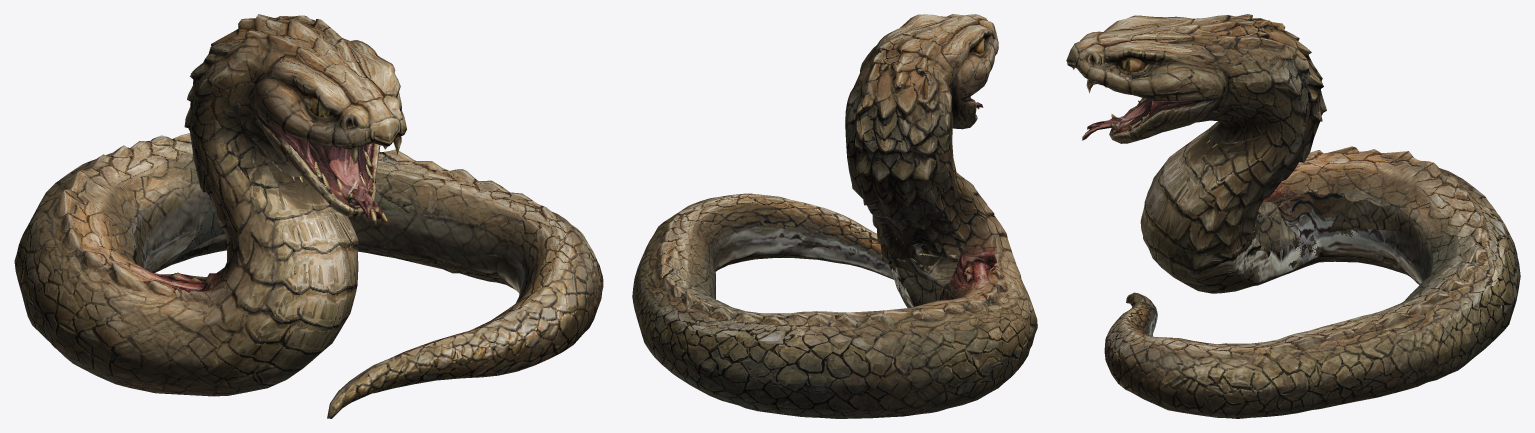
File: BabySnake.fbx
3 renders of one model, left to right at view 1: azimuth 30°, elevation 25°; view 2: azimuth 150°, elevation 25°; view 3: azimuth 270°, elevation 25°, orthographic. The views are drawn at different scales.
Visible parts, largest first — view 1: texture_mapping; view 2: texture_mapping; view 3: texture_mapping.
Part boxes in pixels (left/top/right/bottom): texture_mapping: left=14, top=14, right=603, bottom=418; texture_mapping: left=632, top=14, right=1037, bottom=418; texture_mapping: left=1066, top=14, right=1520, bottom=418.
Bounding box in the file's own units: 0.9994 × 0.9628 × 0.6988.
Materials: 1 (1 with a texture image).
